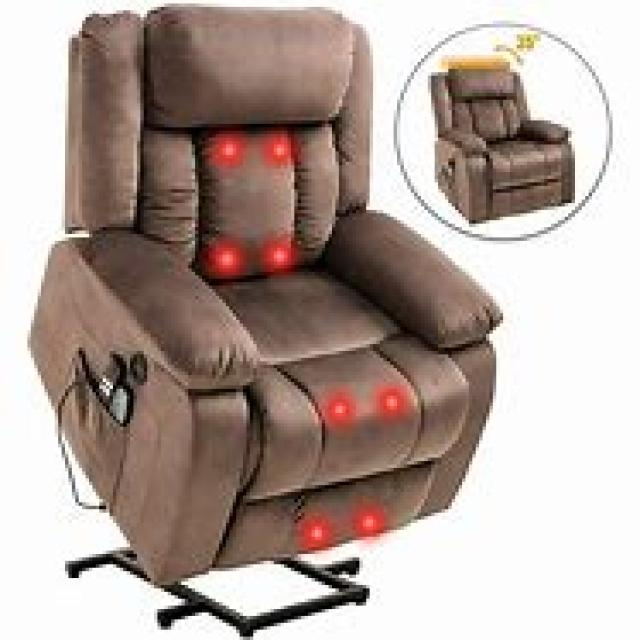chair: (24, 4, 503, 636), (428, 65, 575, 224)
